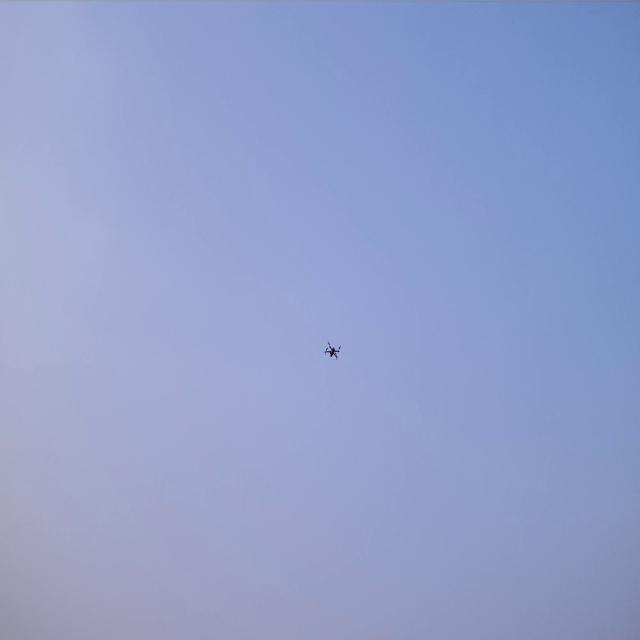UAV: (323, 341, 342, 361)
